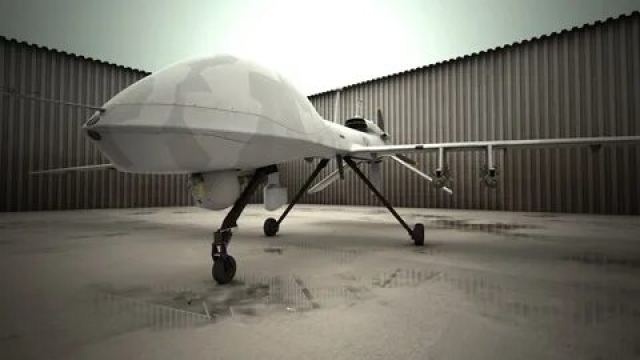military drone: (28, 52, 640, 285)
